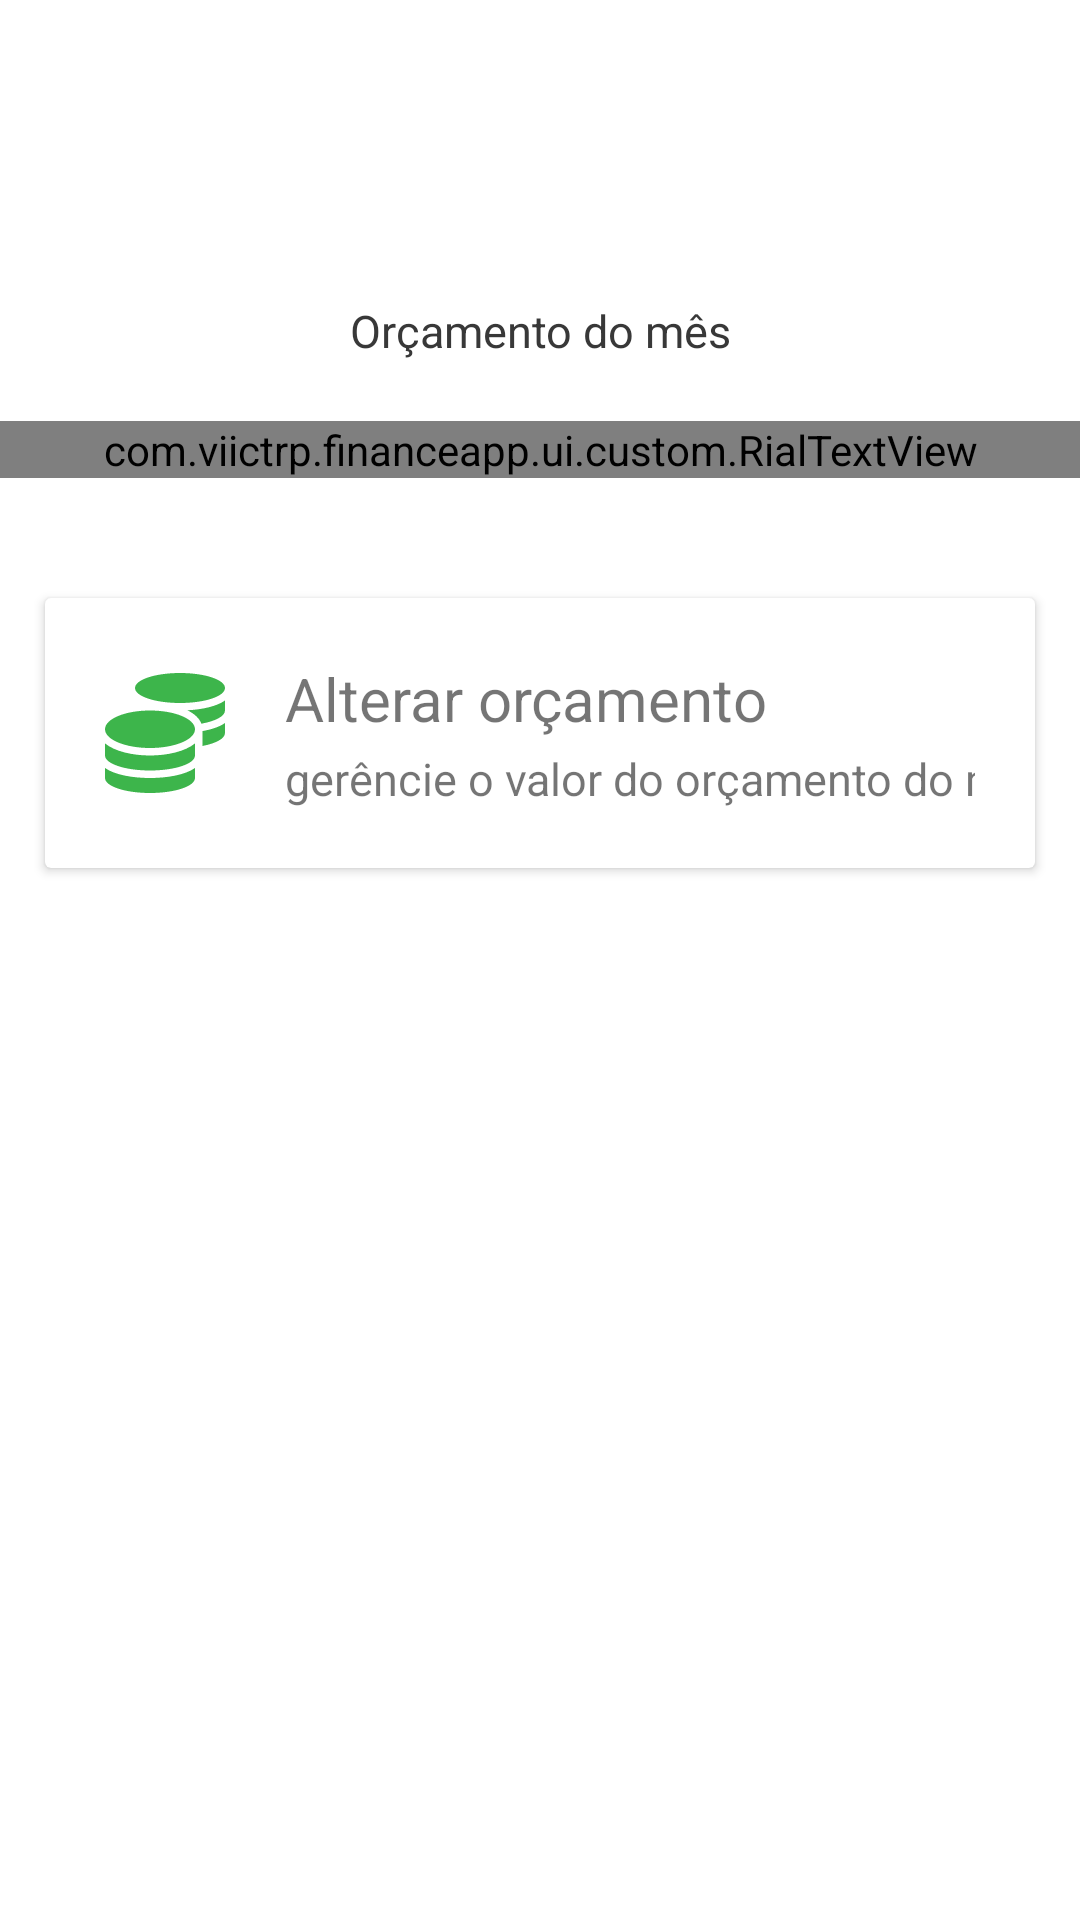

Locate icon controls on the screen. Image size 1080*1920, boxes as bbox=[x1, y1, x2, y2].
coins: bbox=[105, 673, 225, 793]
